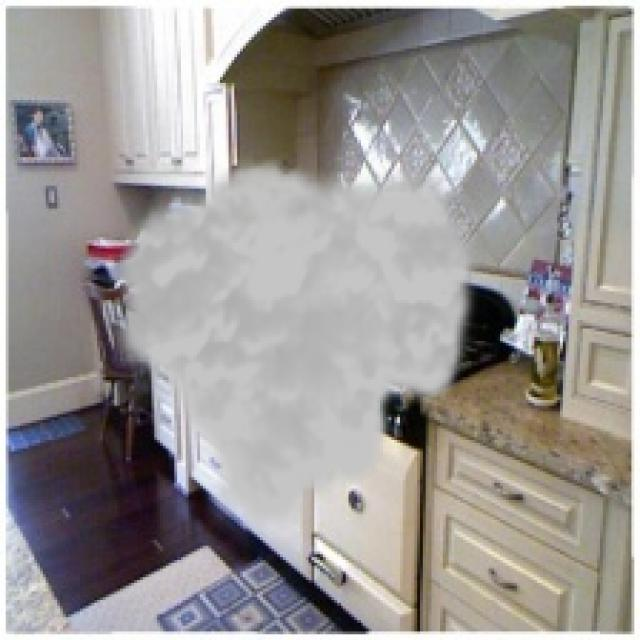smoke: (103, 154, 483, 540)
